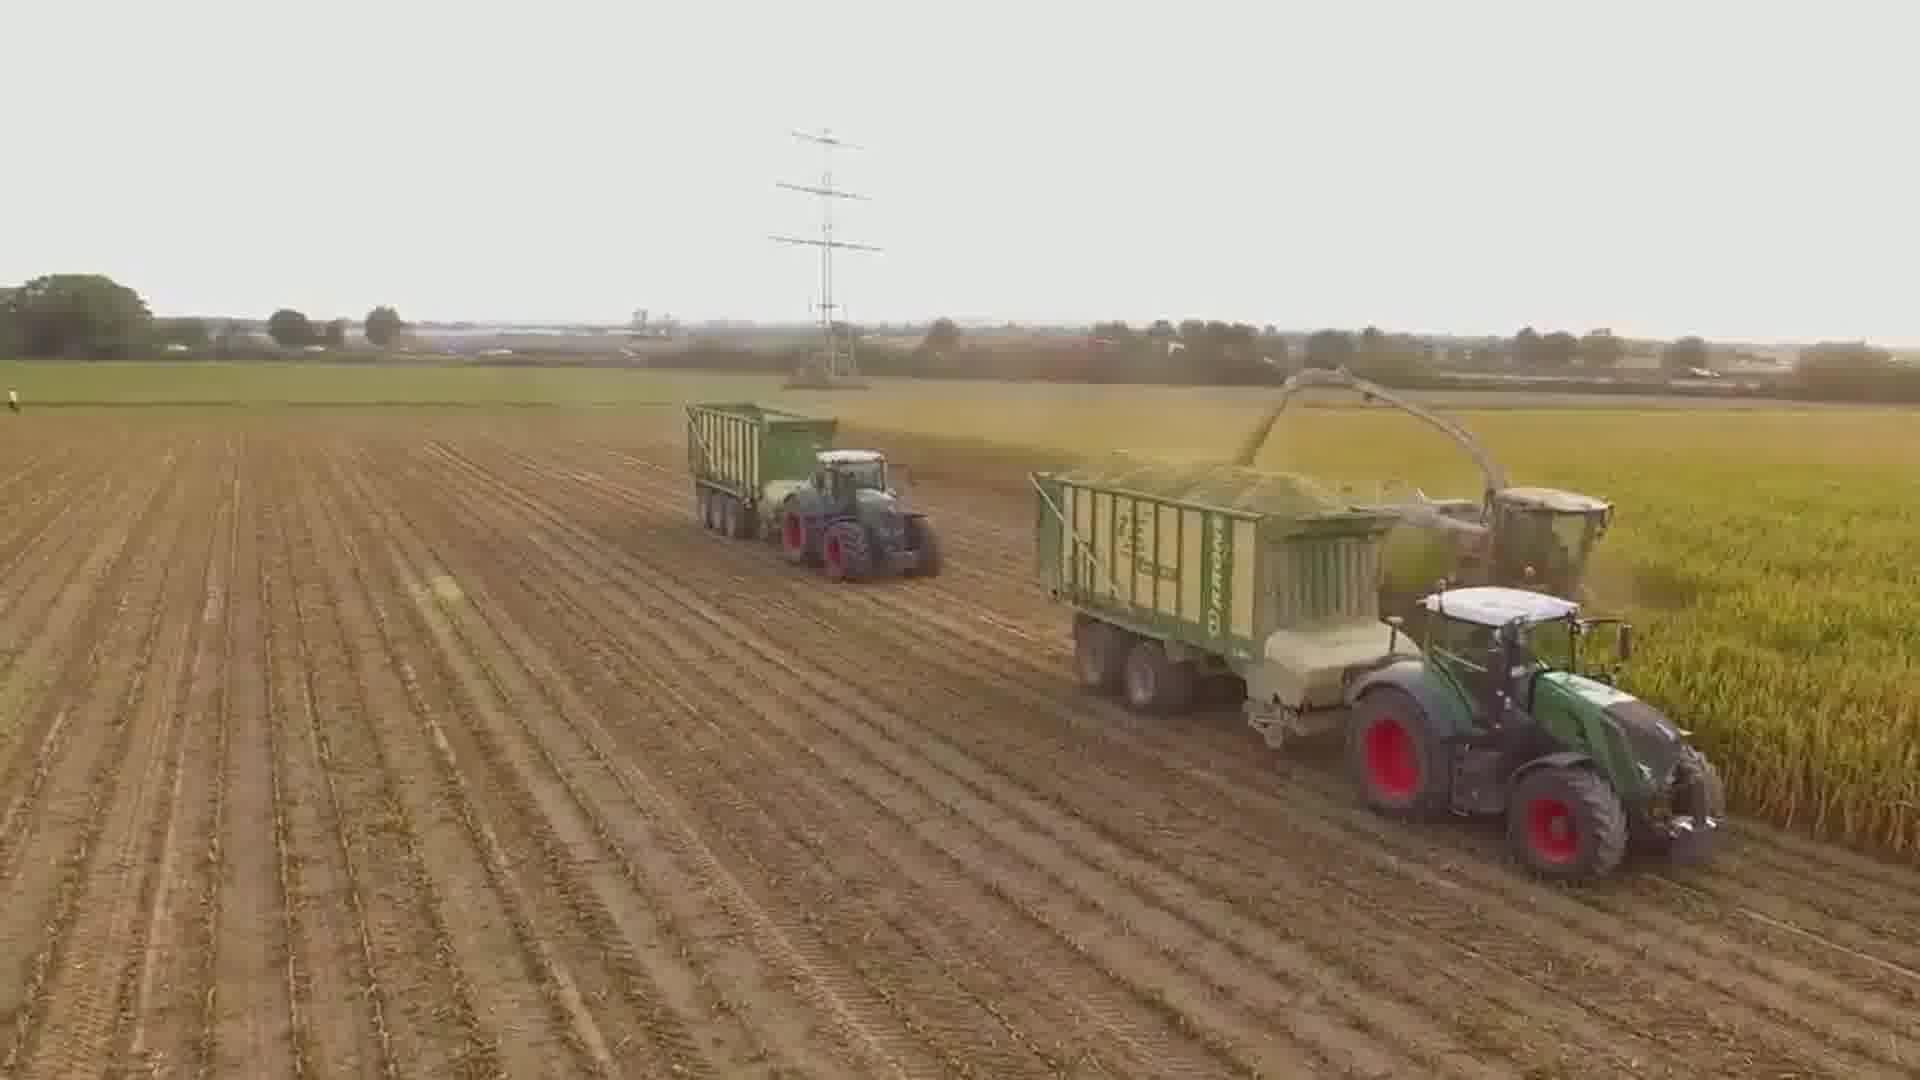combine harvester: (1282, 353, 1617, 612)
tractor: (1340, 572, 1738, 890), (774, 444, 948, 587)
trailer: (1025, 451, 1425, 758), (679, 393, 841, 546)
